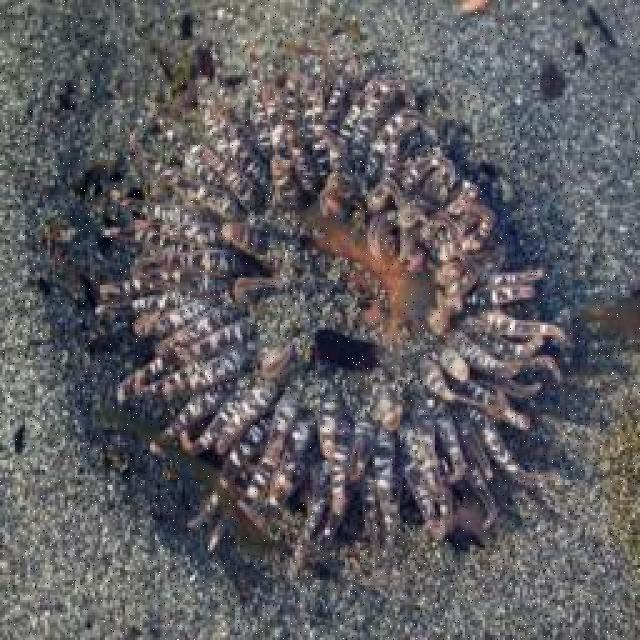reefs: (84, 28, 584, 586)
